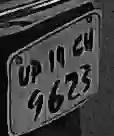1: (43, 47, 57, 74)
2: (65, 69, 82, 102)
3: (79, 64, 93, 93)
4: (54, 44, 70, 71)
6: (47, 77, 67, 112)
9: (24, 87, 47, 121)
C: (69, 35, 85, 56)
H: (83, 29, 94, 53)
P: (29, 59, 45, 85)
U: (17, 61, 31, 88)
